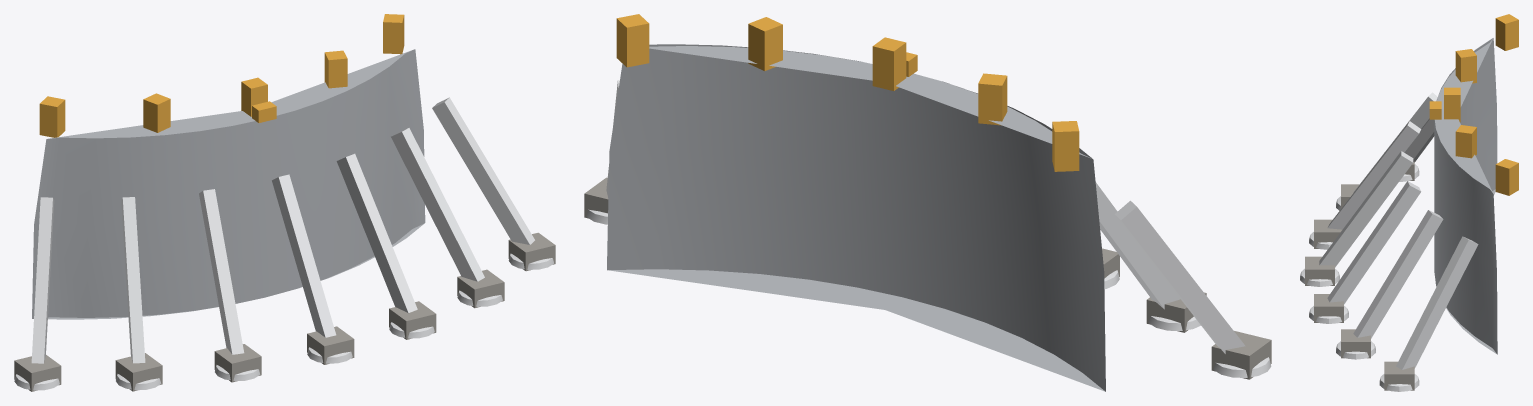
Rendered from blast-deflector-wall-51ed7365.glb.
The picture shows the model from 3 angles, left to right: view 1: azimuth 30°, elevation 25°; view 2: azimuth 150°, elevation 25°; view 3: azimuth 270°, elevation 25°; orthographic projection. The views are drawn at different scales.
Visible parts, largest first — view 1: blast-deflector-wall; view 2: blast-deflector-wall; view 3: blast-deflector-wall.
Part boxes in pixels (<box>): blast-deflector-wall: <box>14,14,555,391</box>; blast-deflector-wall: <box>584,14,1271,391</box>; blast-deflector-wall: <box>1300,14,1518,391</box>.
Size of the model in its own units: 8.93 by 3.45 by 3.64.
